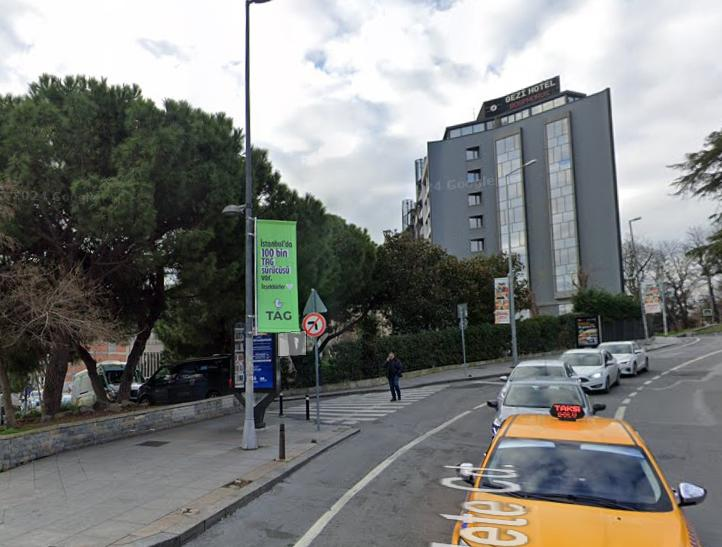leftturnsareforbidden: (304, 313, 326, 335)
